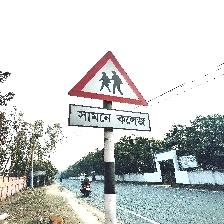College-in-front: (49, 48, 172, 147)
